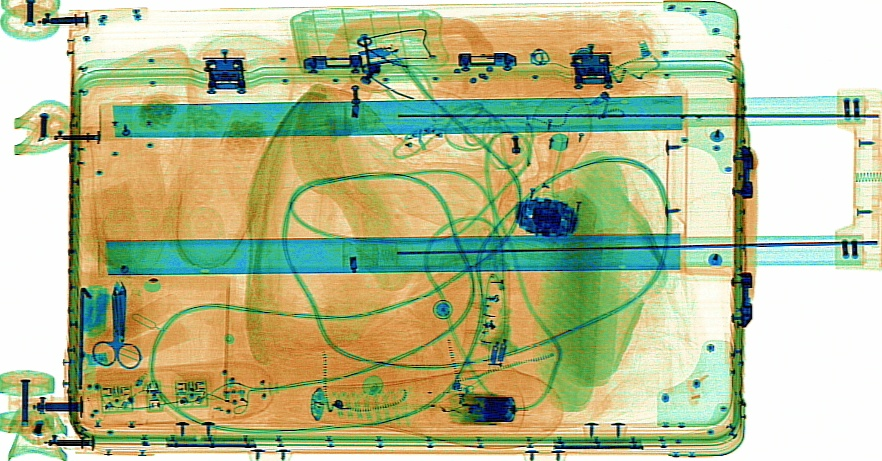scissors: (92, 278, 141, 372)
